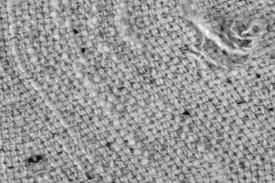snag: (189, 14, 267, 68)
